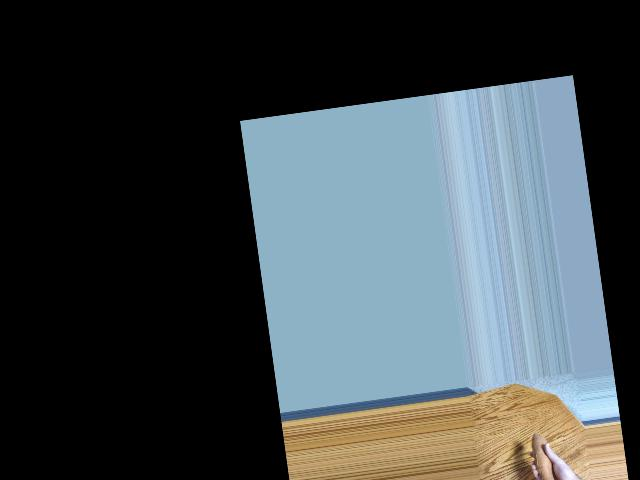sweet_potato: (529, 427, 563, 480)
